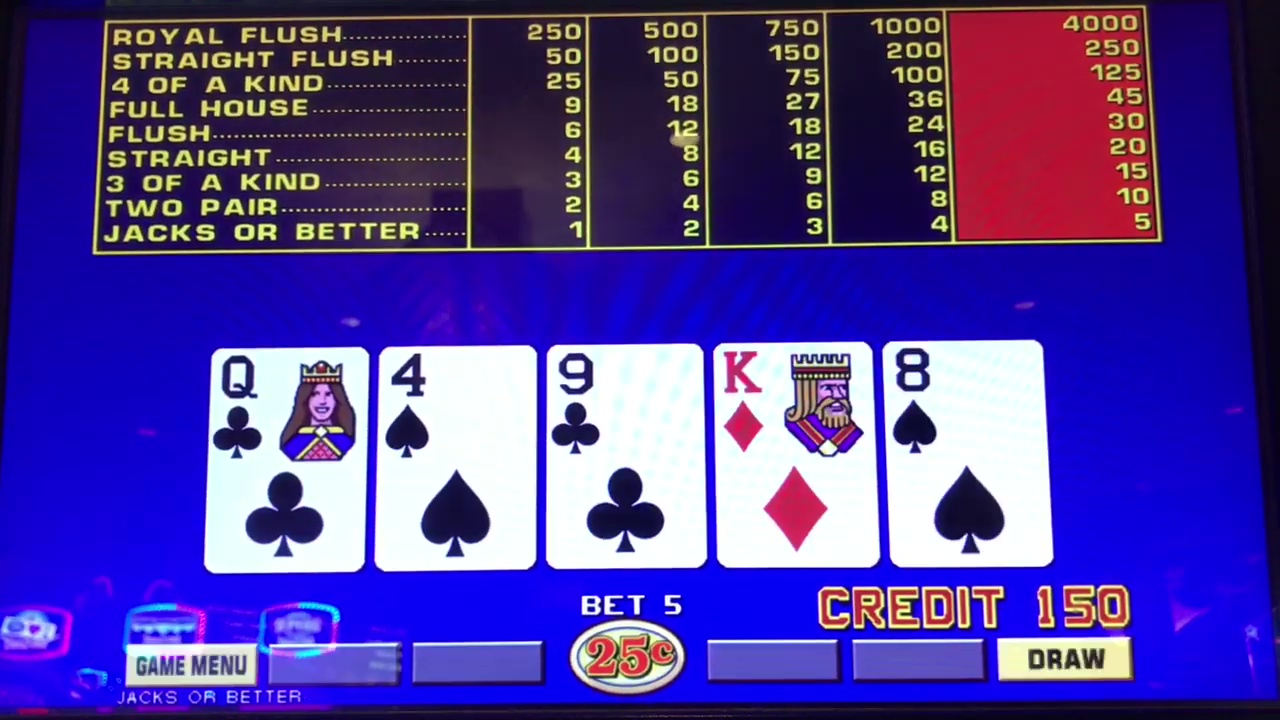C9: (551, 347, 699, 467)
CQ: (214, 354, 359, 471)
DK: (718, 345, 874, 467)
S4: (383, 350, 530, 470)
S8: (888, 342, 1040, 465)
